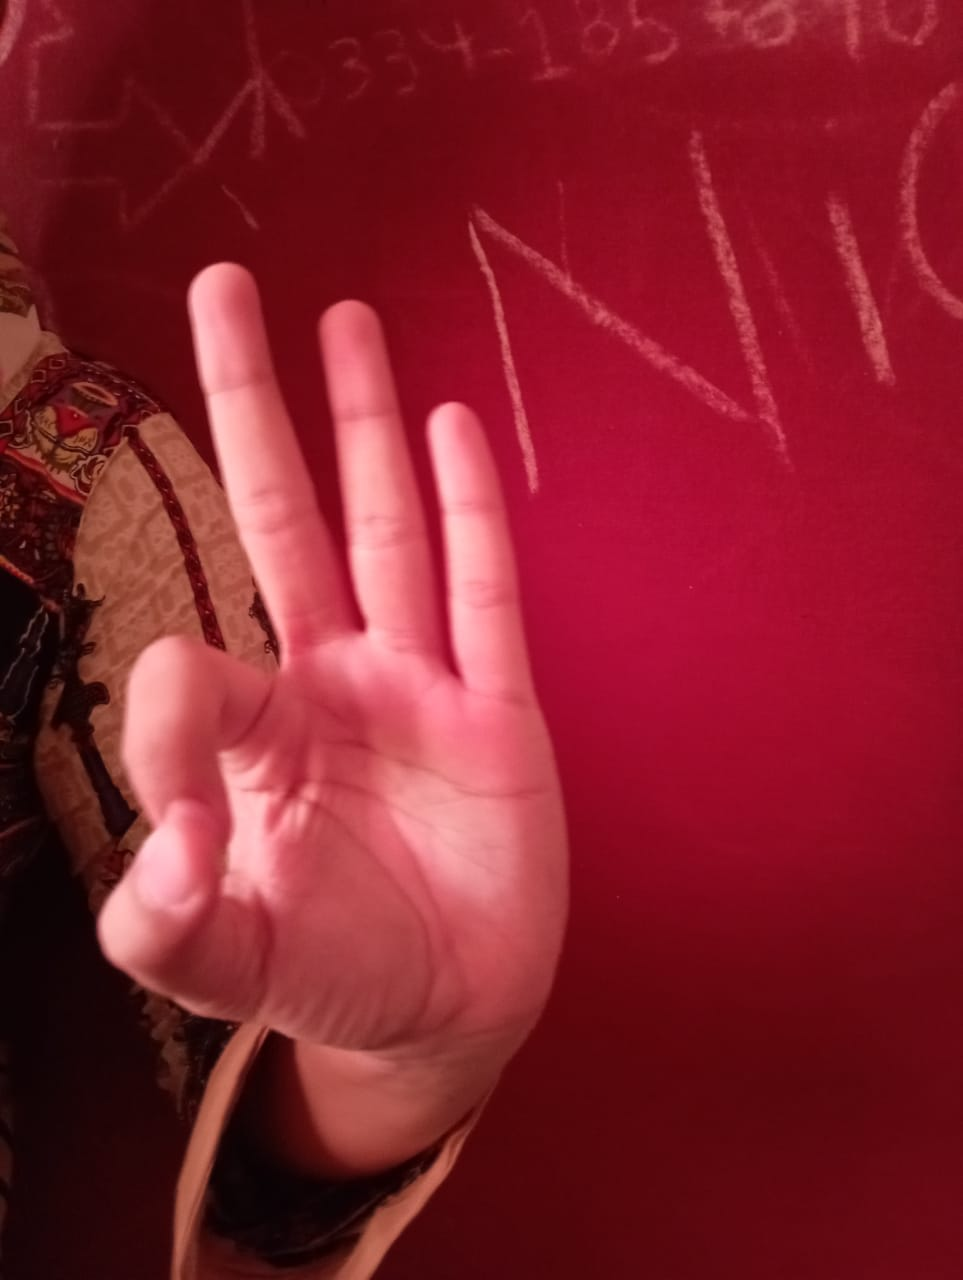Awesome: (74, 251, 585, 1068)
